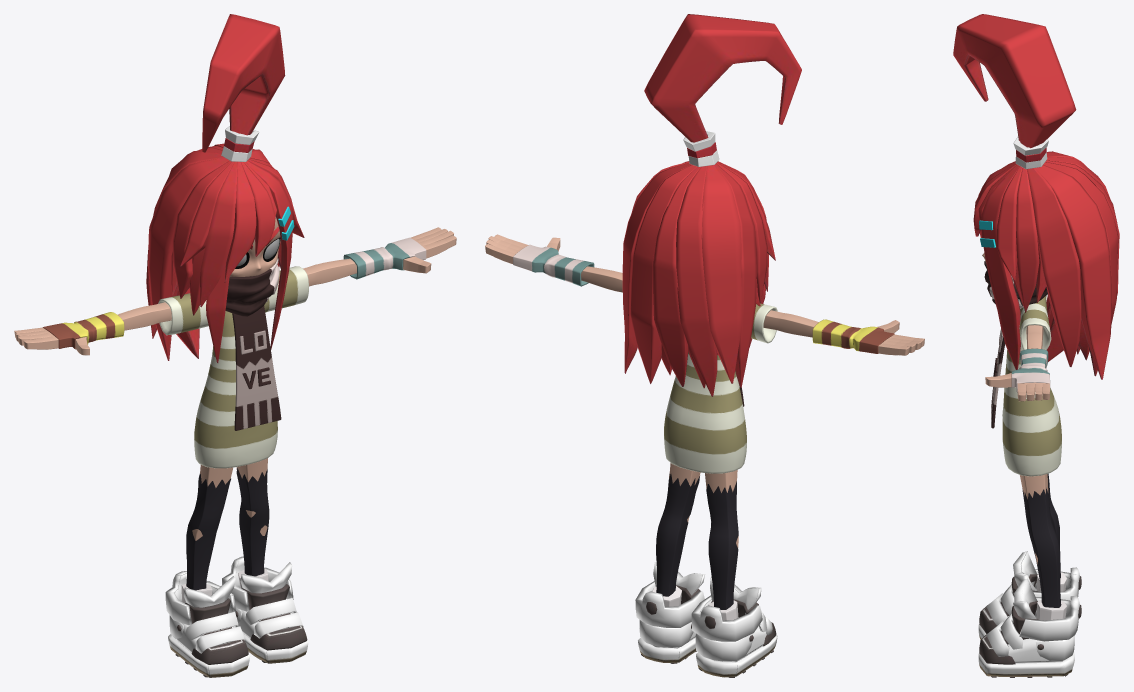
Rendered from abby.glb.
3 views of the same model, side by side, from view 1: azimuth 30°, elevation 25°; view 2: azimuth 150°, elevation 25°; view 3: azimuth 270°, elevation 25° (orthographic).
Parts seen in each view (by area): view 1: AiBi_Hair_mo, AiBi_YiFu01_mo, AiBi_XieZi02_mo, AiBi_XieZi01_mo, AiBi_WeiJin01_mo, AiBi_WaZi02_mo, AiBi_WaZi01_mo, AiBi_WeiJin02_mo, AiBi_ShouTao01_mo, AiBi_ShouTao02_mo, AiBi_HandL_mo, AiBi_HandR_mo (+4 smaller); view 2: AiBi_Hair_mo, AiBi_YiFu01_mo, AiBi_XieZi02_mo, AiBi_XieZi01_mo, AiBi_WaZi02_mo, AiBi_WaZi01_mo, AiBi_ShouTao01_mo, AiBi_ShouTao02_mo, AiBi_GeBoR_mo, AiBi_HandR_mo, AiBi_HandL_mo, AiBi_FaQia02_mo (+1 smaller); view 3: AiBi_Hair_mo, AiBi_XieZi01_mo, AiBi_YiFu01_mo, AiBi_WaZi01_mo, AiBi_XieZi02_mo, AiBi_ShouTao01_mo, AiBi_HandL_mo, AiBi_FaQia02_mo, AiBi_TuiL_mo, AiBi_WeiJin01_mo, AiBi_WaZi02_mo, AiBi_GeBoL_mo (+2 smaller).
Part boxes in pixels (bbox=[...]): AiBi_Hair_mo: bbox=[146, 14, 304, 362]; AiBi_YiFu01_mo: bbox=[158, 266, 308, 468]; AiBi_XieZi02_mo: bbox=[165, 571, 250, 677]; AiBi_XieZi01_mo: bbox=[222, 556, 308, 663]; AiBi_WeiJin01_mo: bbox=[232, 306, 281, 430]; AiBi_WaZi02_mo: bbox=[181, 474, 230, 603]; AiBi_WaZi01_mo: bbox=[236, 468, 269, 588]; AiBi_WeiJin02_mo: bbox=[225, 258, 279, 316]; AiBi_ShouTao01_mo: bbox=[343, 237, 426, 279]; AiBi_ShouTao02_mo: bbox=[43, 312, 124, 349]; AiBi_HandL_mo: bbox=[403, 227, 456, 273]; AiBi_HandR_mo: bbox=[14, 327, 89, 355]; AiBi_Hair_mo: bbox=[622, 14, 801, 396]; AiBi_YiFu01_mo: bbox=[664, 303, 777, 473]; AiBi_XieZi02_mo: bbox=[691, 576, 777, 677]; AiBi_XieZi01_mo: bbox=[635, 562, 705, 663]; AiBi_WaZi02_mo: bbox=[706, 481, 738, 620]; AiBi_WaZi01_mo: bbox=[652, 474, 699, 606]; AiBi_ShouTao01_mo: bbox=[513, 244, 594, 286]; AiBi_ShouTao02_mo: bbox=[812, 319, 894, 353]; AiBi_GeBoR_mo: bbox=[763, 310, 818, 337]; AiBi_HandR_mo: bbox=[877, 320, 924, 355]; AiBi_HandL_mo: bbox=[485, 234, 560, 263]; AiBi_FaQia02_mo: bbox=[683, 131, 719, 166]; AiBi_Hair_mo: bbox=[953, 14, 1119, 379]; AiBi_XieZi01_mo: bbox=[978, 578, 1081, 677]; AiBi_YiFu01_mo: bbox=[1002, 295, 1061, 476]; AiBi_WaZi01_mo: bbox=[1022, 487, 1066, 620]; AiBi_XieZi02_mo: bbox=[978, 551, 1081, 639]; AiBi_ShouTao01_mo: bbox=[1011, 348, 1050, 392]; AiBi_HandL_mo: bbox=[985, 373, 1049, 401]; AiBi_FaQia02_mo: bbox=[1013, 136, 1048, 169]; AiBi_TuiL_mo: bbox=[1020, 474, 1048, 564]; AiBi_WeiJin01_mo: bbox=[991, 328, 1004, 428]; AiBi_WaZi02_mo: bbox=[1036, 473, 1066, 591]; AiBi_GeBoL_mo: bbox=[1026, 325, 1043, 348].
Size of the model in its own units: 1.11 by 1.55 by 0.371.
Materials: 9 (7 with a texture image).
